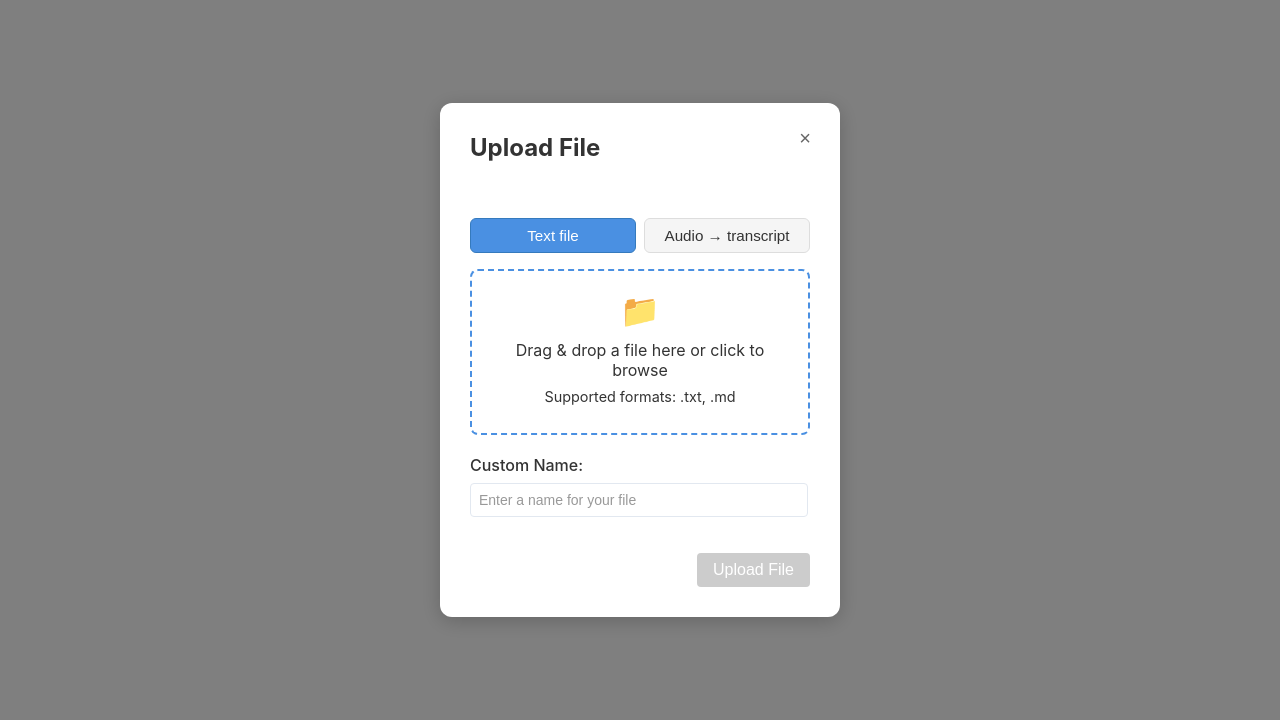
Test: audio tab shows privacy hint and upload sub-tab
What coordinates should you click on to do the following:
click the tab "Audio → transcript"
I would click on:
 (727, 236)
Its box is top-left (644, 218), bottom-right (810, 253).
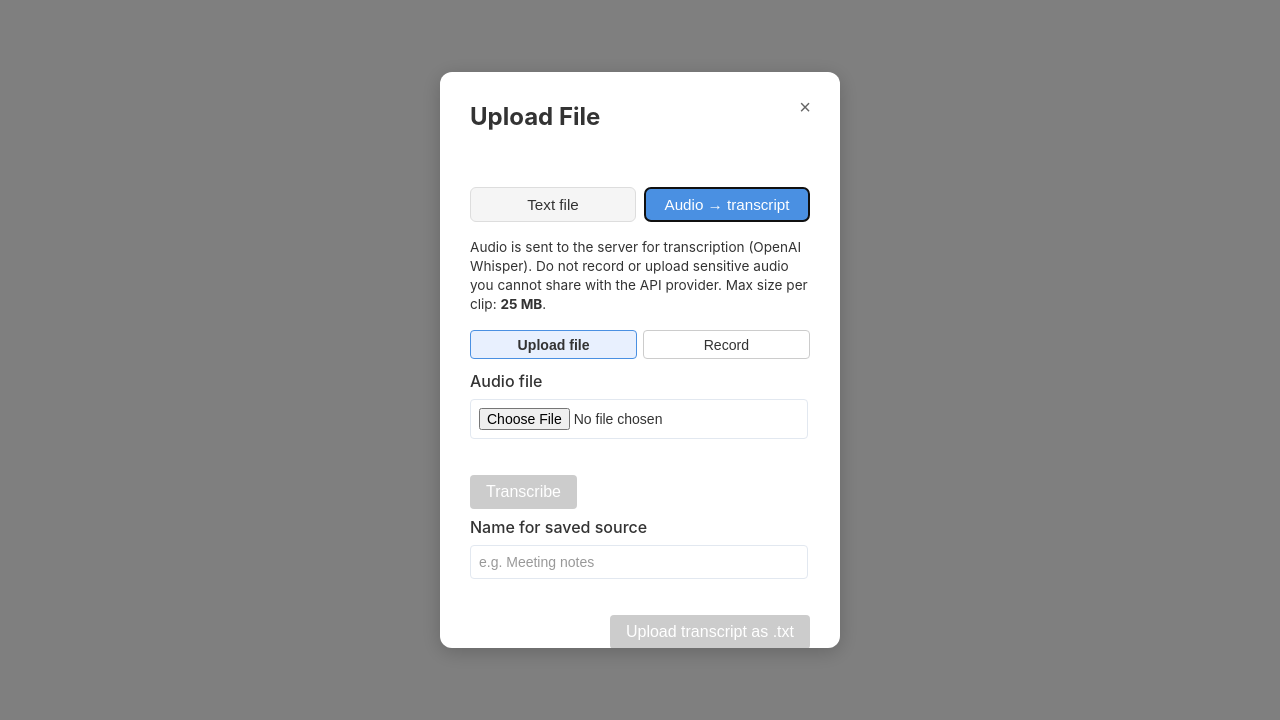
Result: the text "sent to the server for transcription" is shown at top-left (470, 239), bottom-right (808, 312)
Result: the text "25 MB" is shown at top-left (500, 296), bottom-right (542, 312)
Result: the file field labelled "Audio file" is shown at top-left (470, 399), bottom-right (808, 439)
